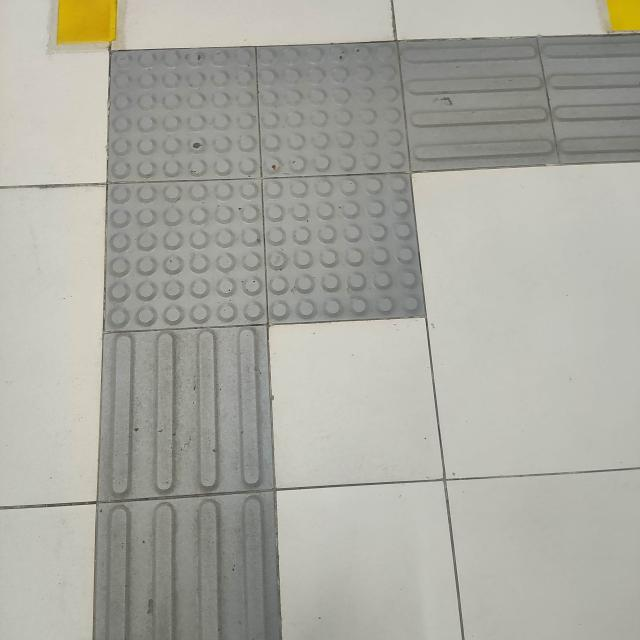kanan: (51, 24, 640, 367)
